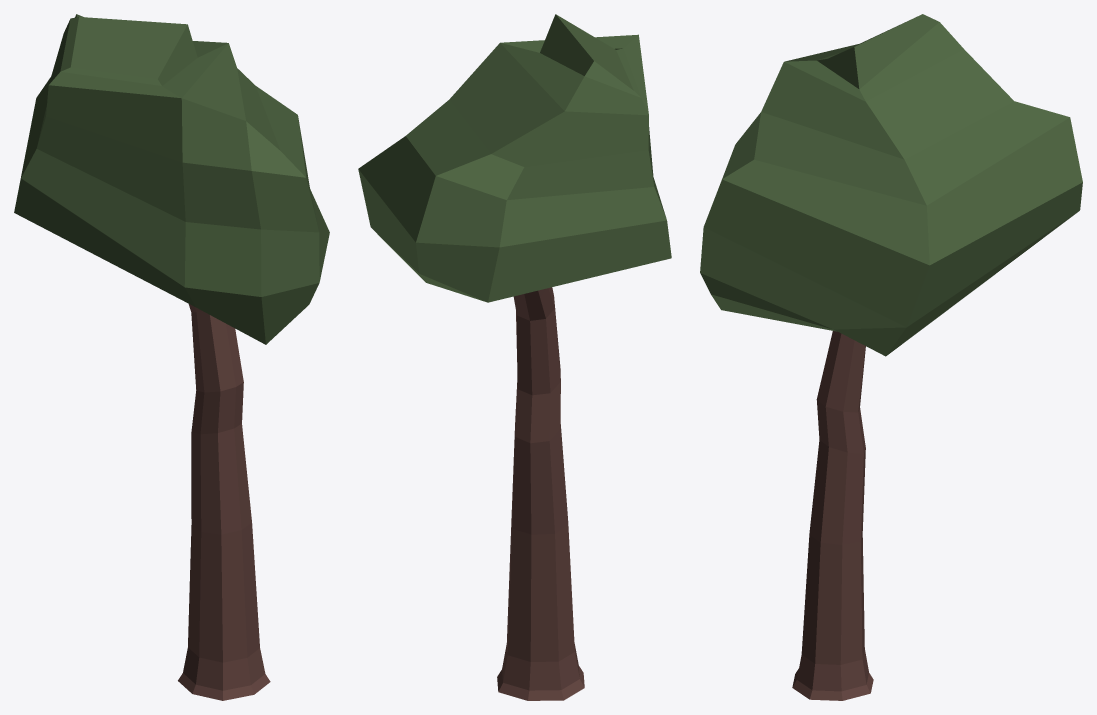
Rendered from Orange_2.glb.
3 renders of one model, left to right at view 1: azimuth 30°, elevation 25°; view 2: azimuth 150°, elevation 25°; view 3: azimuth 270°, elevation 25°, orthographic. The views are drawn at different scales.
Parts seen in each view (by area): view 1: Orange_2; view 2: Orange_2; view 3: Orange_2.
Boxes of the visible parts, x1,y1,x2,y2 form: Orange_2: (14,14,329,700); Orange_2: (358,14,671,700); Orange_2: (700,14,1082,700).
Size of the model in its own units: 0.4385 by 0.9389 by 0.5213.
